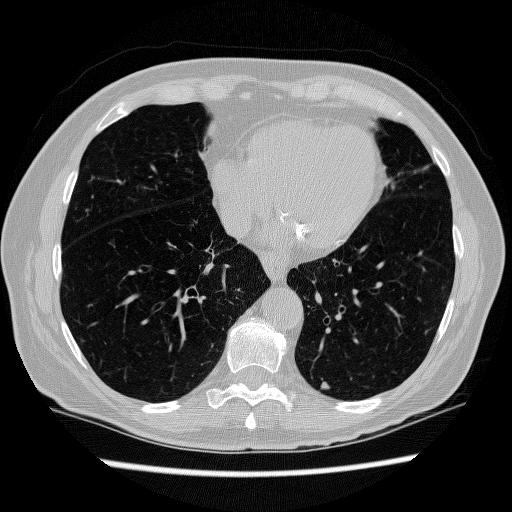nodule: (318, 379, 332, 393)
